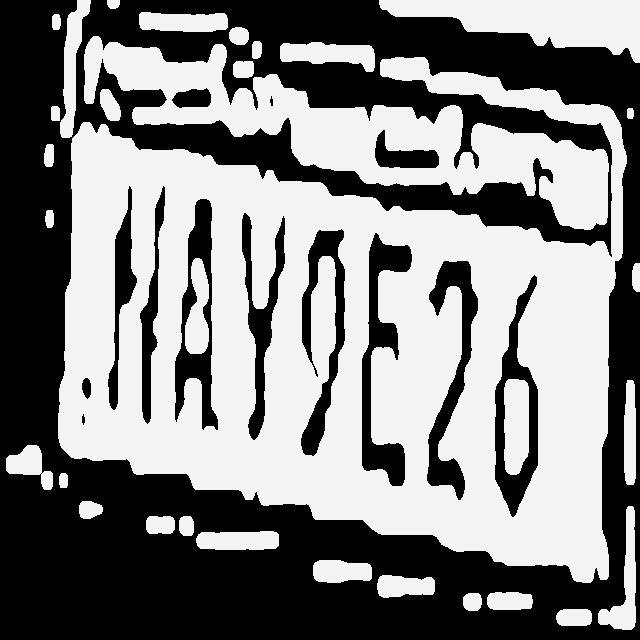2: (421, 252, 483, 508)
6: (490, 263, 546, 524)
9: (294, 218, 349, 461)
a: (169, 189, 225, 438)
e: (357, 230, 410, 492)
n: (106, 177, 166, 425)
y: (234, 204, 290, 444)
